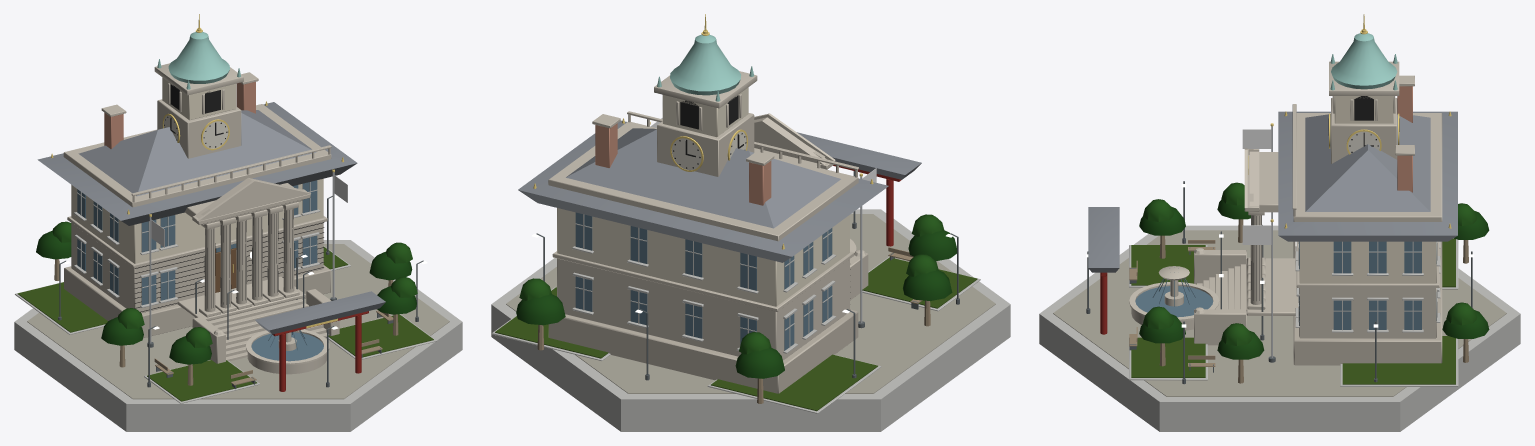
Rendered from cityHall_asia.glb.
The picture shows the model from 3 angles, left to right: view 1: azimuth 30°, elevation 25°; view 2: azimuth 150°, elevation 25°; view 3: azimuth 270°, elevation 25°; orthographic projection. The views are drawn at different scales.
Parts seen in each view (by area): view 1: stone, wall_concrete, roof_slate, pavers, turf, leaf, plaster, glass, dark, copper, paint, wood (+5 smaller); view 2: stone, wall_concrete, roof_slate, pavers, plaster, leaf, turf, glass, copper, brick, paint, steel_dark (+3 smaller); view 3: stone, wall_concrete, roof_slate, pavers, turf, leaf, plaster, glass, copper, wood, banner, steel_dark (+4 smaller).
Part boxes in pixels (x1,y1,x2,y2): stone: [63, 63, 339, 374]; wall_concrete: [14, 182, 462, 431]; roof_slate: [37, 102, 385, 334]; pavers: [27, 244, 449, 399]; turf: [17, 246, 433, 401]; leaf: [36, 221, 417, 364]; plaster: [71, 77, 323, 263]; glass: [77, 180, 323, 361]; dark: [134, 84, 324, 312]; copper: [157, 32, 240, 89]; paint: [163, 115, 368, 391]; wood: [54, 248, 398, 385]; stone: [548, 71, 868, 393]; wall_concrete: [491, 209, 1010, 431]; roof_slate: [518, 120, 921, 262]; pavers: [506, 214, 995, 393]; plaster: [557, 87, 849, 306]; leaf: [516, 214, 956, 378]; turf: [495, 257, 977, 411]; glass: [575, 212, 832, 350]; copper: [657, 34, 753, 101]; brick: [595, 123, 771, 205]; paint: [671, 131, 901, 246]; steel_dark: [536, 171, 959, 380]; stone: [1129, 61, 1442, 365]; wall_concrete: [1039, 225, 1520, 431]; roof_slate: [1088, 111, 1457, 272]; pavers: [1053, 230, 1506, 396]; turf: [1131, 238, 1455, 384]; leaf: [1139, 182, 1489, 359]; plaster: [1299, 96, 1436, 283]; glass: [1135, 241, 1436, 329]; copper: [1330, 33, 1397, 90]; wood: [1129, 219, 1468, 383]; banner: [1242, 129, 1271, 244]; steel_dark: [1086, 181, 1473, 384].
Size of the model in its own units: 21.3 by 18.6 by 24.6.
